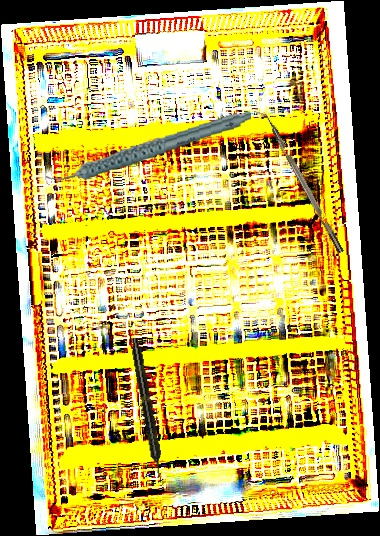Chopper: (254, 105, 344, 258)
Handpiece: (41, 109, 256, 184), (128, 337, 166, 479)
